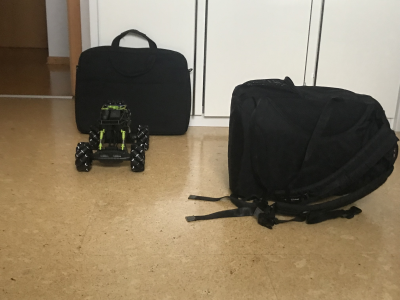remote control car: (75, 99, 151, 177)
